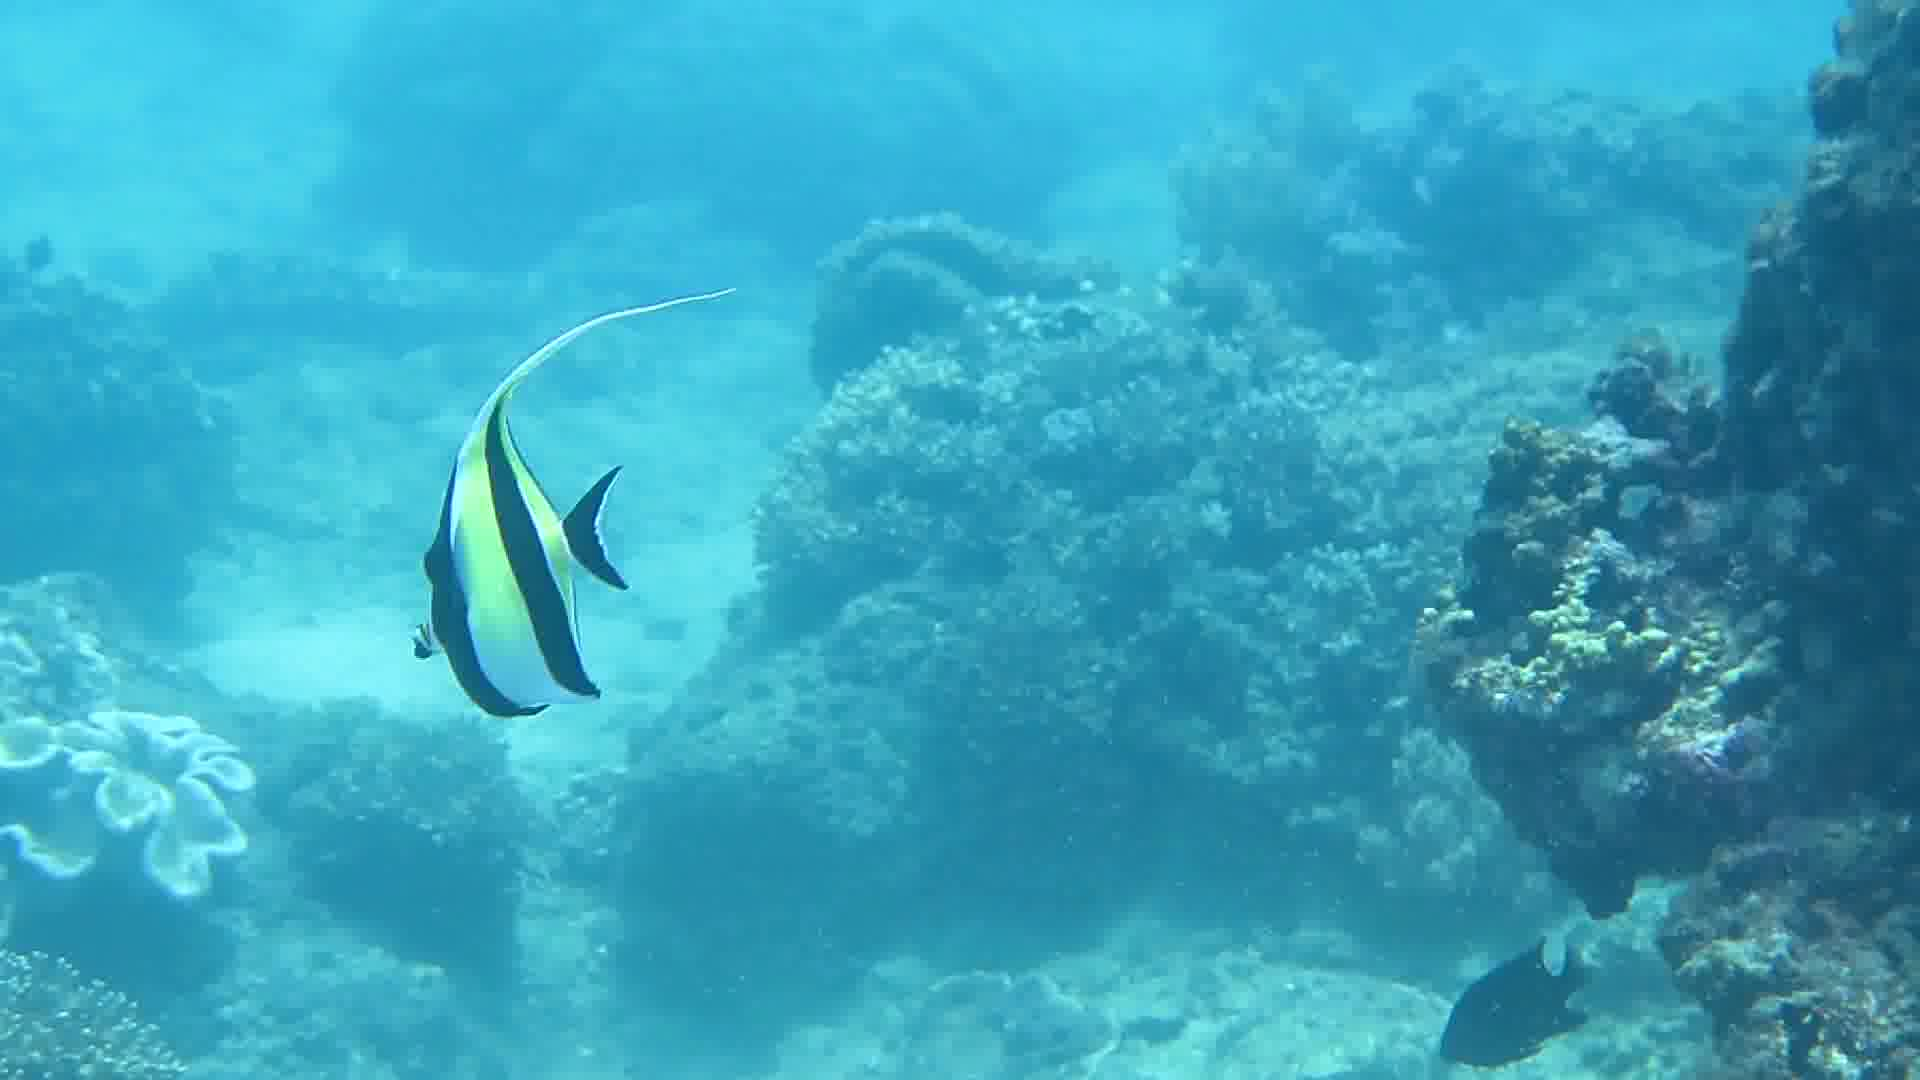Zanclus cornutus: (356, 342, 713, 761)
